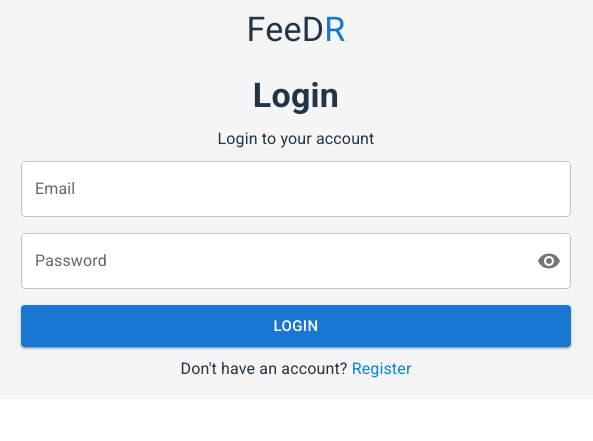
Test: shows error message for password with length less than 6
Type "12345" into the password field labelled "Password" at (271, 261), box [21, 233, 521, 289]
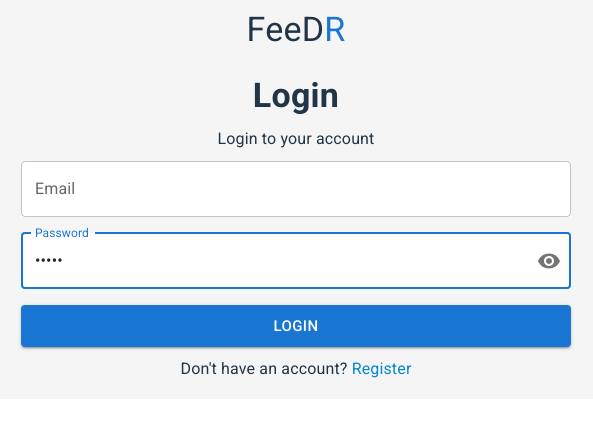
Click the button "Login" at (296, 326), box [21, 305, 571, 347]
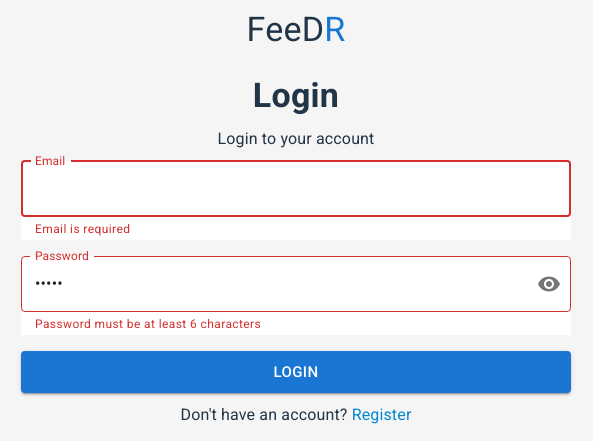
Check: the text "Password must be at least 6 characters" is shown, box [35, 317, 261, 331]
